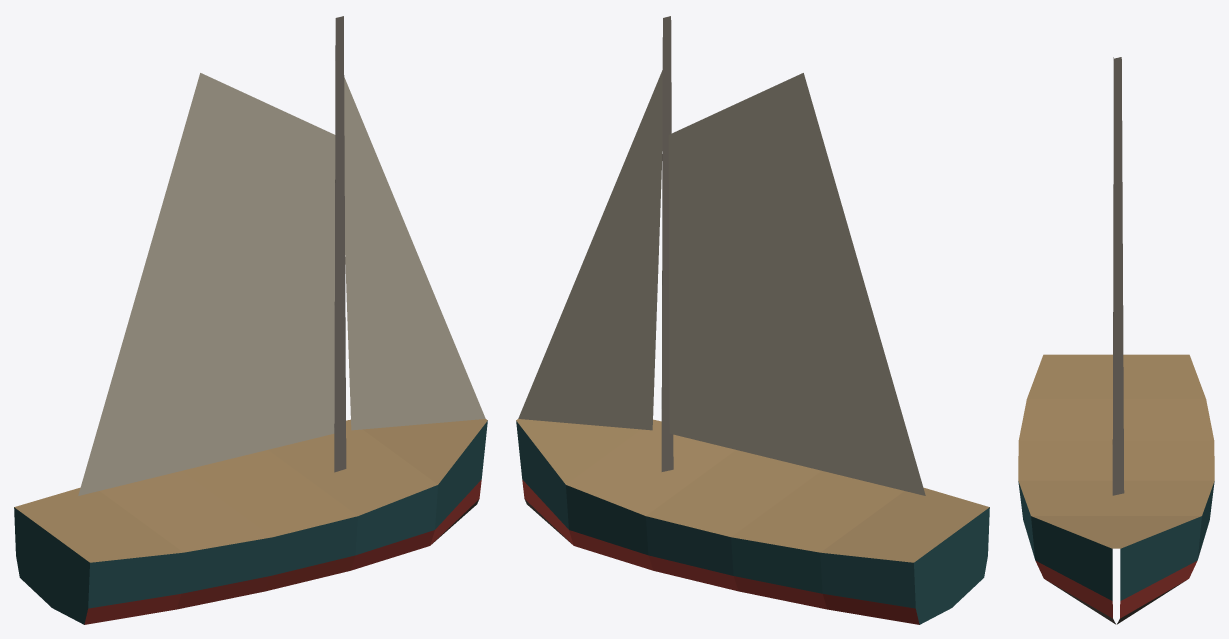
The model's file is hull_other_work_small_lod.glb.
The picture shows the model from 3 angles, left to right: view 1: azimuth 30°, elevation 25°; view 2: azimuth 150°, elevation 25°; view 3: azimuth 270°, elevation 25°; orthographic projection. The views are drawn at different scales.
Parts seen in each view (by area): view 1: lod; view 2: lod; view 3: lod.
Boxes of the visible parts, x1,y1,x2,y2 form: lod: [14, 16, 487, 624]; lod: [516, 16, 989, 624]; lod: [1018, 57, 1214, 624].
Bounding box in the file's own units: 10 × 11.89 × 4.07.
